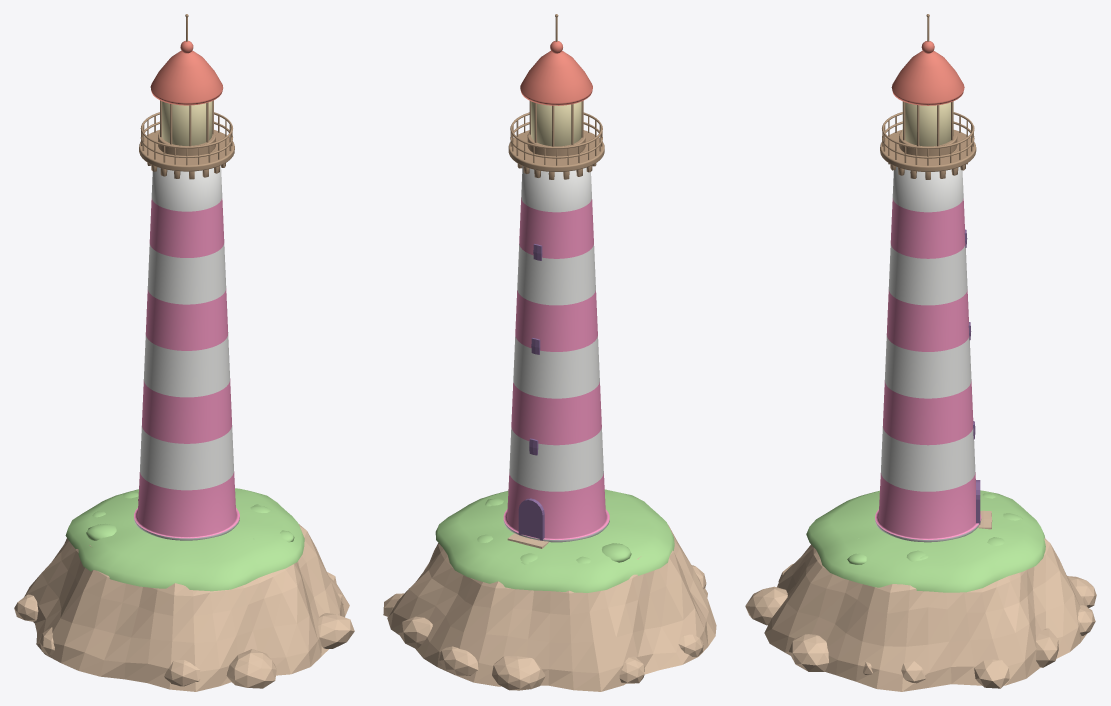
The model's file is SharkBaitLighthouse.glb.
3 renders of one model, left to right at view 1: azimuth 30°, elevation 25°; view 2: azimuth 150°, elevation 25°; view 3: azimuth 270°, elevation 25°, orthographic.
Parts seen in each view (by area): view 1: Rock, Stripes, Tower, Grass, Rail, Roof, Lantern; view 2: Rock, Stripes, Tower, Grass, Rail, Roof, Lantern, Door; view 3: Rock, Stripes, Tower, Grass, Rail, Roof, Lantern.
Boxes of the visible parts, x1,y1,x2,y2 form: Rock: (14,499,354,691); Stripes: (134,198,239,538); Tower: (134,165,239,540); Grass: (65,488,304,591); Rail: (139,14,234,179); Roof: (150,40,223,105); Lantern: (162,101,212,145); Rock: (383,525,716,691); Stripes: (503,197,609,539); Tower: (503,166,609,542); Grass: (435,489,674,592); Rail: (508,14,604,179); Roof: (520,41,592,105); Lantern: (531,101,581,146); Door: (518,244,544,540); Rock: (745,510,1096,691); Stripes: (875,198,981,539); Tower: (875,167,981,542); Grass: (806,490,1045,592); Rail: (880,14,976,179); Roof: (891,41,964,105); Lantern: (902,101,953,146).
Size of the model in its own units: 22.87 by 46 by 24.12.
